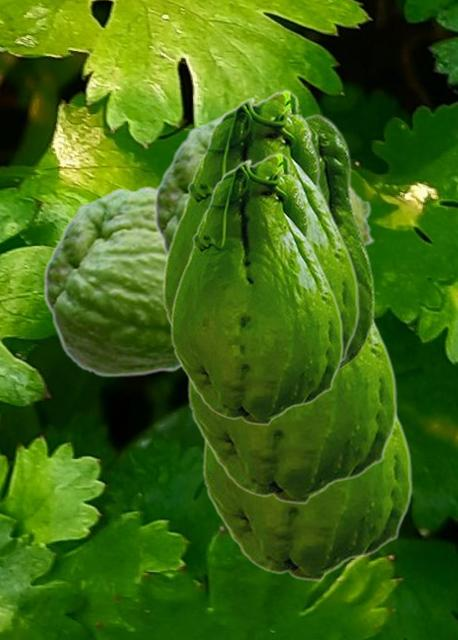sayote: (162, 89, 359, 365), (170, 152, 343, 425), (187, 316, 397, 504), (202, 412, 412, 581), (153, 108, 375, 259), (43, 185, 181, 377), (303, 113, 374, 375)
